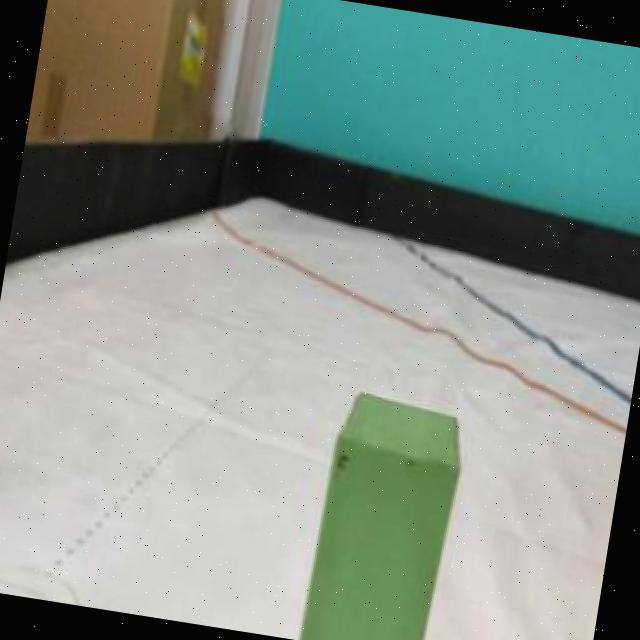greenbox: (294, 385, 472, 640)
